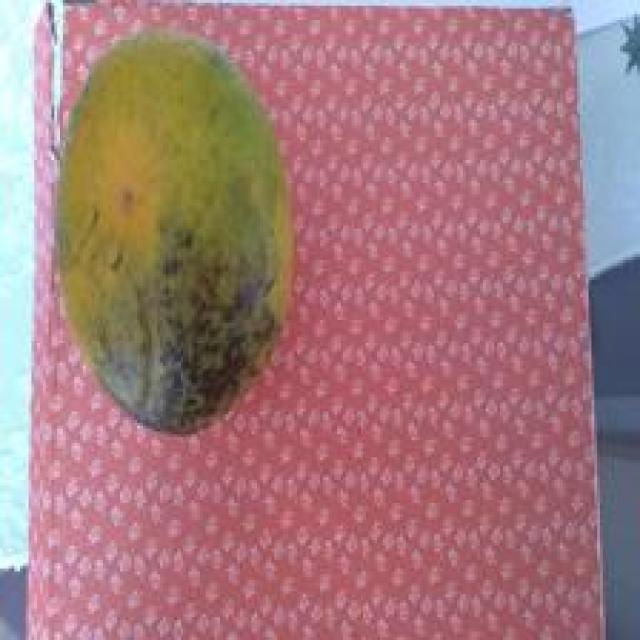Orange: (52, 26, 294, 434)
